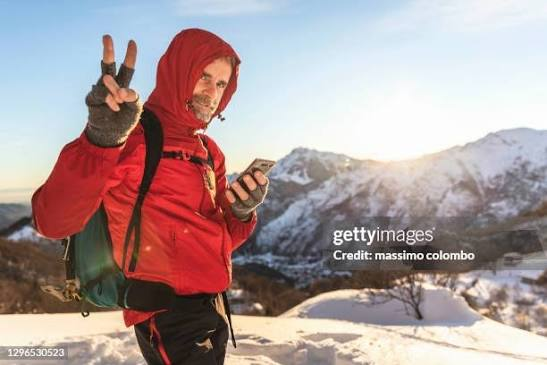peace_sign: (80, 27, 144, 138)
